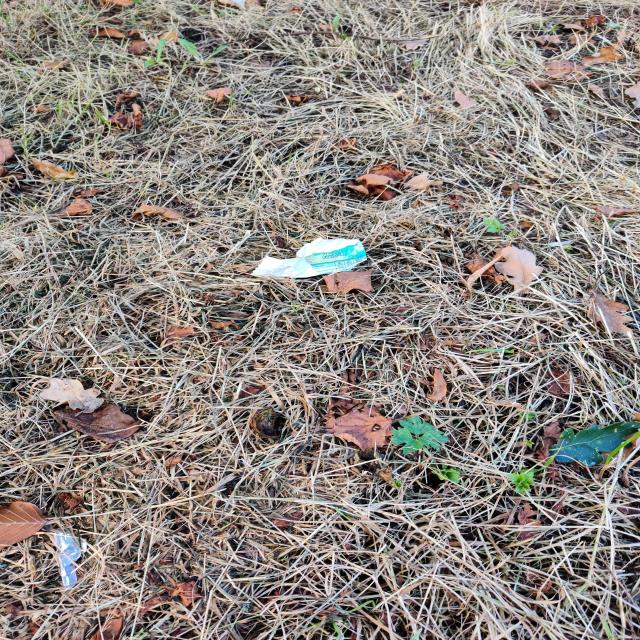litter: (251, 236, 367, 278), (55, 532, 87, 588)
